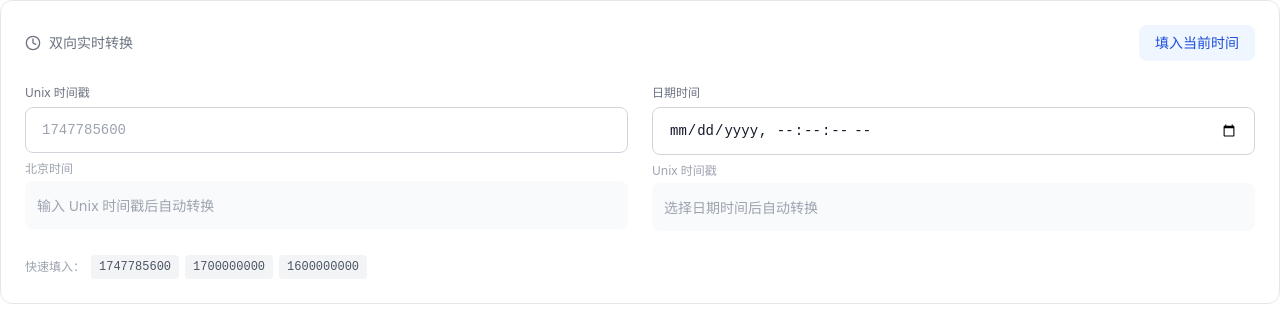
Scenario: UnixTimestampConverter › converts date to unix timestamp in real-time
Type "2024-06-01T00:00:00" into the field named "日期时间" at [954, 131], box x1=652 y1=107 x2=1255 y2=155
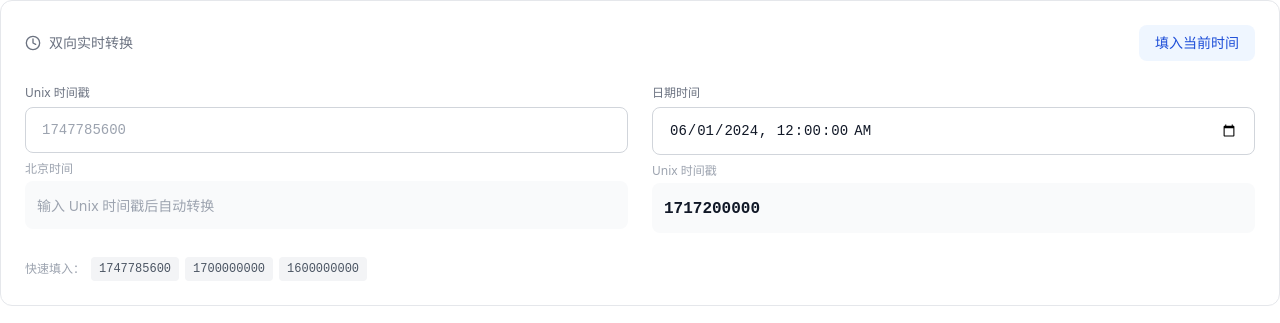
Check: the text "选择日期时间后自动转换" is gone
Check: the text "1717200000" is shown, box x1=664 y1=200 x2=760 y2=218
